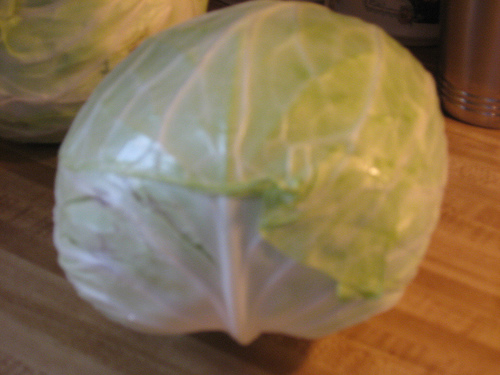cabbage: (53, 2, 448, 348), (0, 0, 208, 151)
